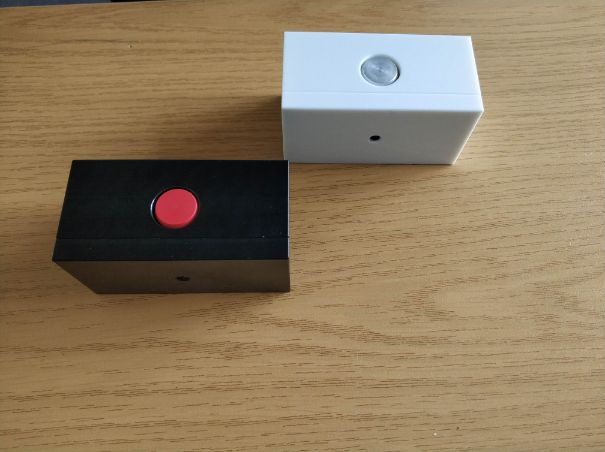black+black+red: (46, 155, 296, 298)
white+white+silver: (279, 28, 484, 167)
